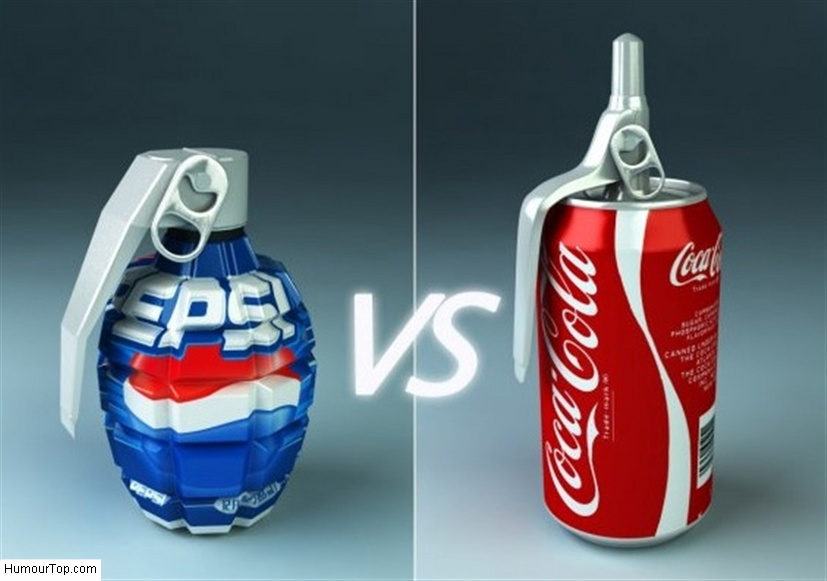can: (521, 164, 742, 557)
